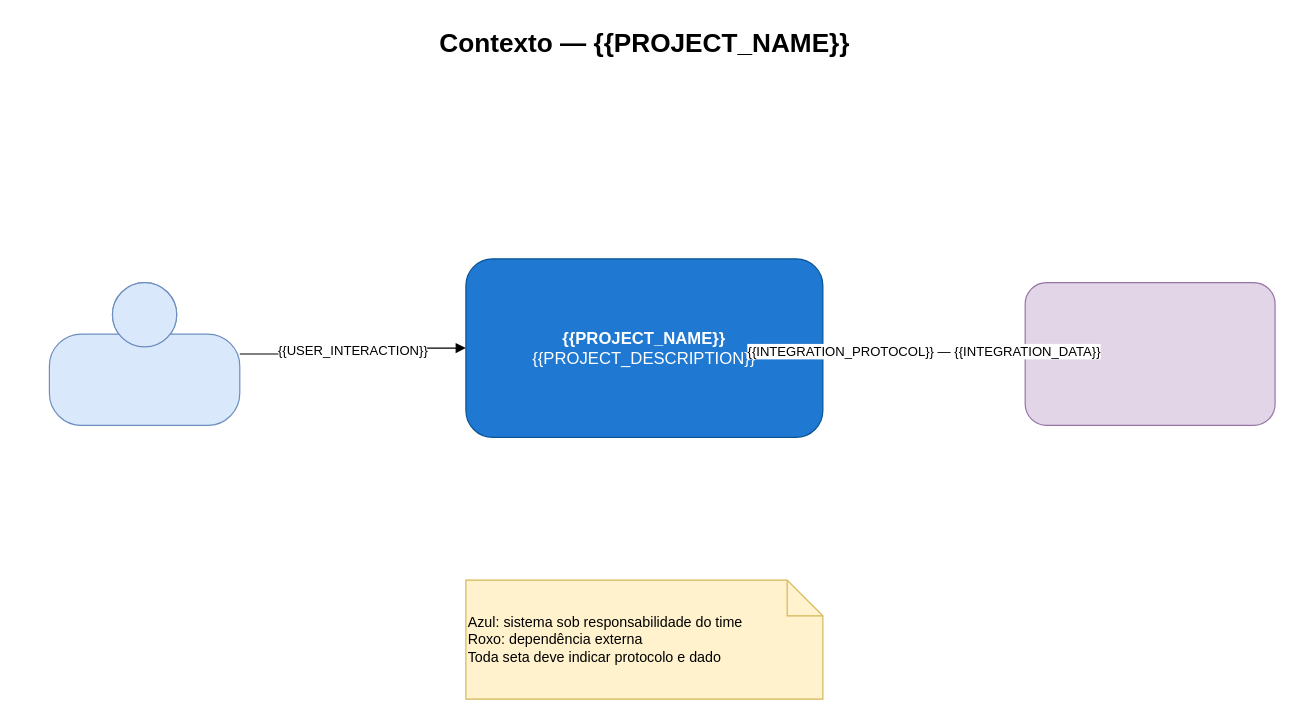
The diagram is 1303 pixels wide and 720 high, and some of its shapes have lost their labels. The shapes that lost their labels are listed below. From the top down, each one's centre as x and y in pixels, then its label:
the point at 144,353: {{PRIMARY_ACTOR}} {{PRIMARY_ACTOR_DESCRIPTION}}
the point at 1149,353: {{EXTERNAL_SYSTEM}} {{EXTERNAL_SYSTEM_DESCRIPTION}}
